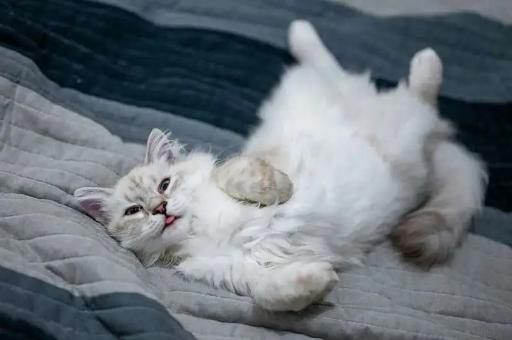cat_sleeping: (75, 20, 486, 311)
